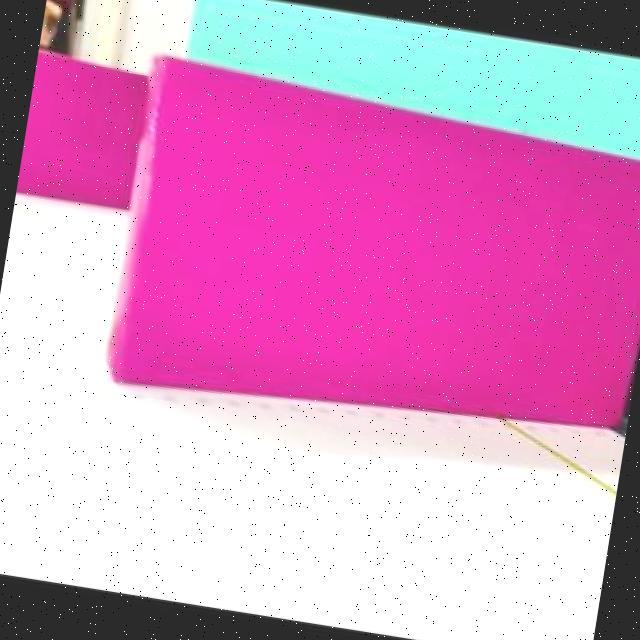xparking: (124, 63, 640, 430), (16, 56, 150, 212)
